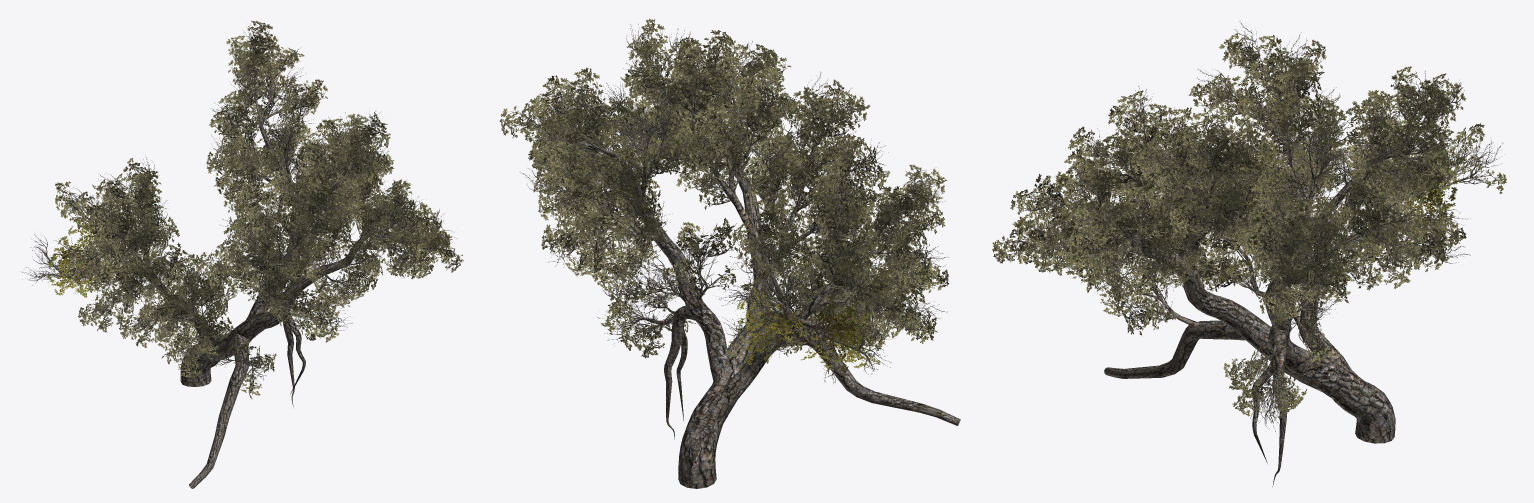
The picture shows the model from 3 angles, left to right: view 1: azimuth 30°, elevation 25°; view 2: azimuth 150°, elevation 25°; view 3: azimuth 270°, elevation 25°; orthographic projection. The views are drawn at different scales.
Parts seen in each view (by area): view 1: Plane_22, Sweep_NURBS_17; view 2: Plane_22, Sweep_NURBS_17; view 3: Plane_22, Sweep_NURBS_17.
Part boxes in pixels (x1=…): Plane_22: x1=22, y1=20, x2=463, y2=399; Sweep_NURBS_17: x1=32, y1=36, x2=444, y2=488; Plane_22: x1=499, y1=18, x2=948, y2=383; Sweep_NURBS_17: x1=532, y1=40, x2=960, y2=488; Plane_22: x1=992, y1=21, x2=1506, y2=431; Sweep_NURBS_17: x1=1028, y1=40, x2=1492, y2=486.
Size of the model in its own units: 23.78 by 22.91 by 25.15.
5 materials, 5 textured.
